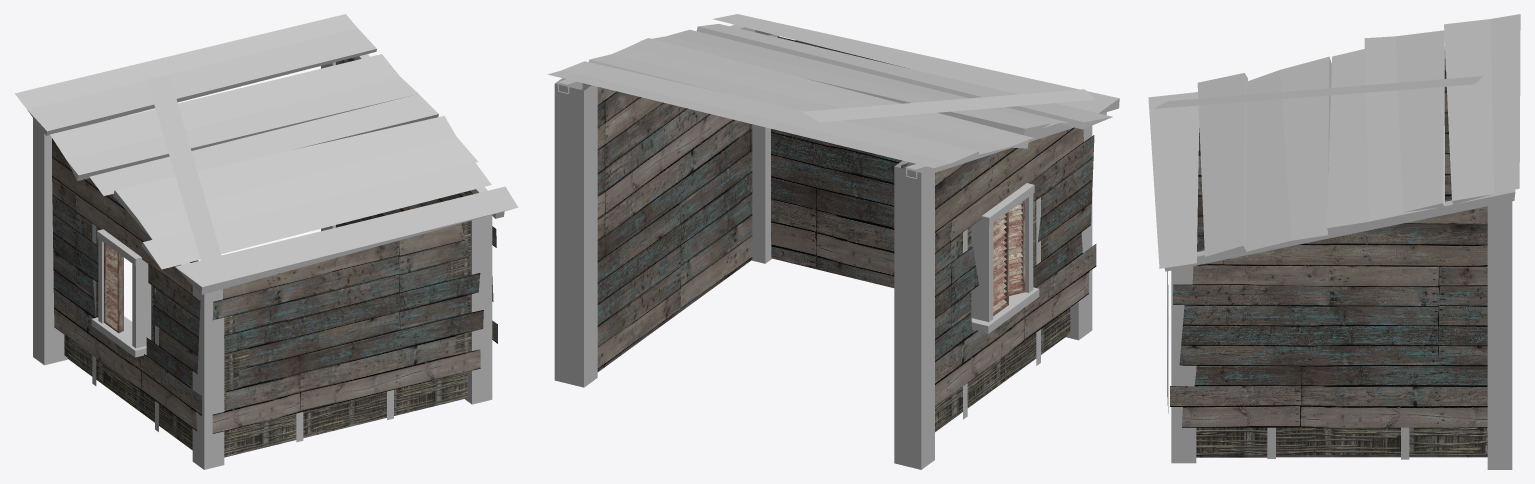
File: Shed2_LOD1.fbx
The picture shows the model from 3 angles, left to right: view 1: azimuth 30°, elevation 25°; view 2: azimuth 150°, elevation 25°; view 3: azimuth 270°, elevation 25°; orthographic projection. The views are drawn at different scales.
Visible parts, largest first — view 1: polySurface479; view 2: polySurface479; view 3: polySurface479.
Part boxes in pixels (x1,y1,x2,y2): polySurface479: (14,14,518,469); polySurface479: (547,14,1119,469); polySurface479: (1148,14,1520,469).
Size of the model in its own units: 5.2 by 3.77 by 4.47.
